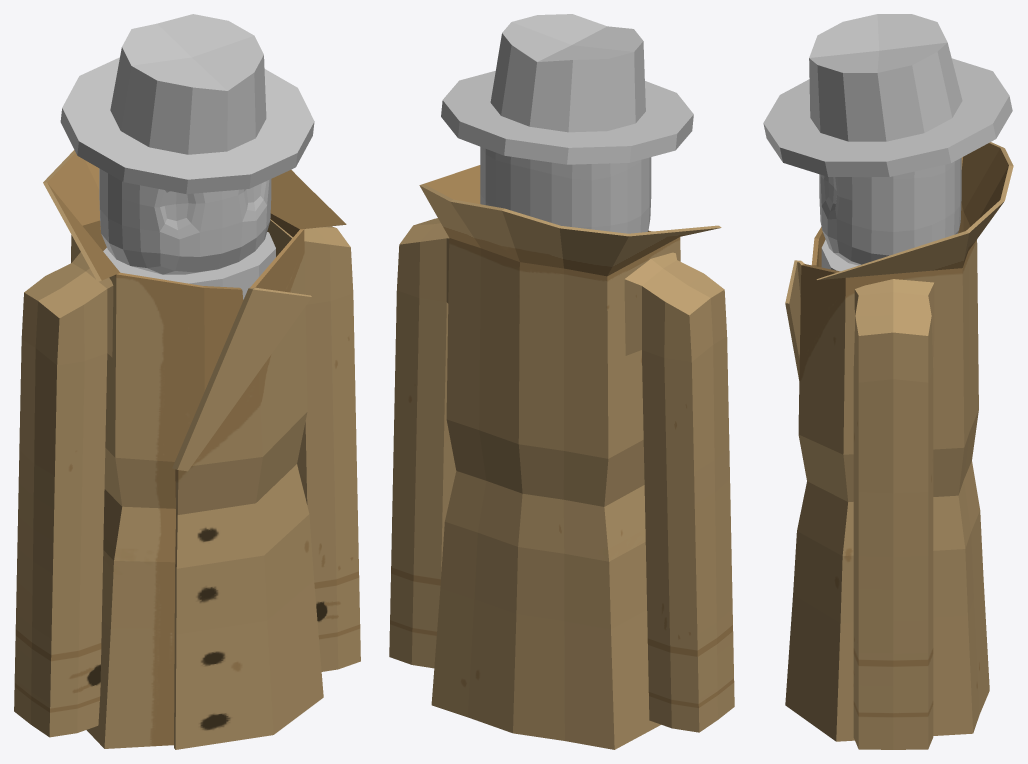
Rendered from CatCharacterV2.fbx.
3 renders of one model, left to right at view 1: azimuth 30°, elevation 25°; view 2: azimuth 150°, elevation 25°; view 3: azimuth 270°, elevation 25°, orthographic.
Parts seen in each view (by area): view 1: MainCoatPiece, Hat, Arm.Right, Arm.Left; view 2: MainCoatPiece, Arm.Right, Hat, Arm.Left; view 3: MainCoatPiece, Hat, Arm.Left.
Part boxes in pixels (x1,y1,x2,y2): MainCoatPiece: (43, 150, 346, 749); Hat: (60, 14, 314, 299); Arm.Right: (14, 252, 113, 737); Arm.Left: (267, 219, 360, 671); MainCoatPiece: (419, 165, 721, 749); Arm.Right: (624, 252, 734, 732); Hat: (441, 14, 693, 233); Arm.Left: (389, 218, 456, 668); MainCoatPiece: (785, 142, 1013, 741); Hat: (763, 14, 1012, 271); Arm.Left: (853, 279, 934, 749).
Size of the model in its own units: 73.67 by 149 by 51.95.
